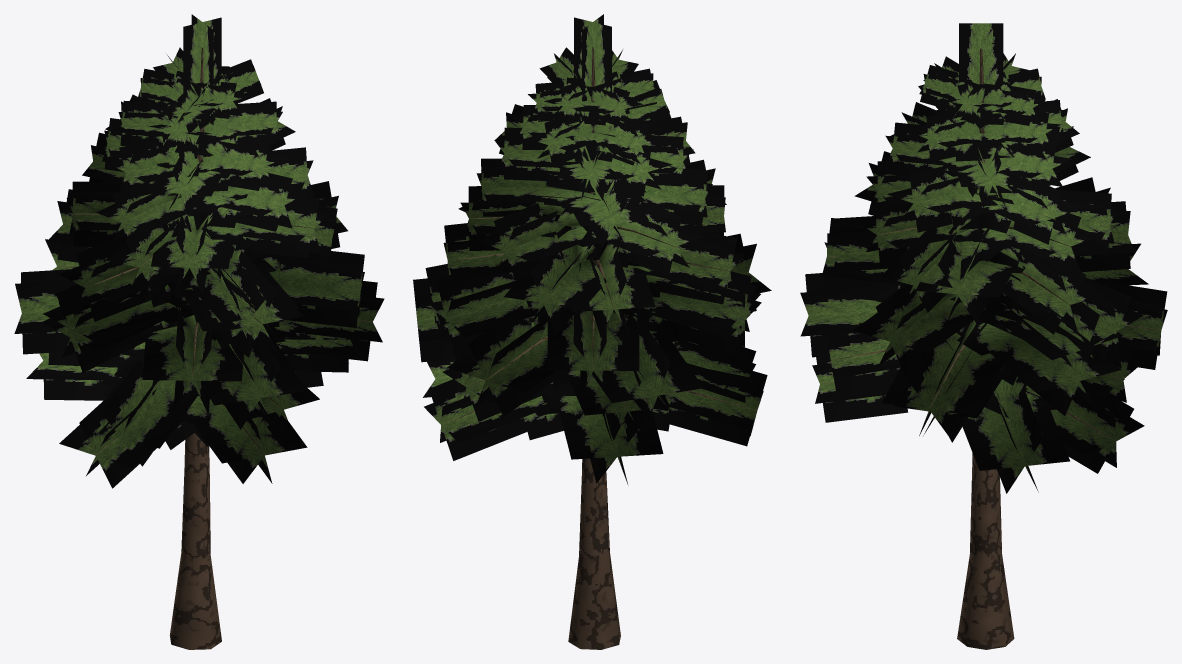
Rendered from pine2_lod0.fbx.
3 renders of one model, left to right at view 1: azimuth 30°, elevation 25°; view 2: azimuth 150°, elevation 25°; view 3: azimuth 270°, elevation 25°, orthographic.
Visible parts, largest first — view 1: pine2_lod0; view 2: pine2_lod0; view 3: pine2_lod0.
Part boxes in pixels (box(x1,y1,x2,y2)): pine2_lod0: box(14, 14, 384, 649); pine2_lod0: box(413, 14, 771, 649); pine2_lod0: box(800, 23, 1167, 649).
Size of the model in its own units: 6.44 by 12.3 by 6.64.
Materials: 2 (2 with a texture image).
